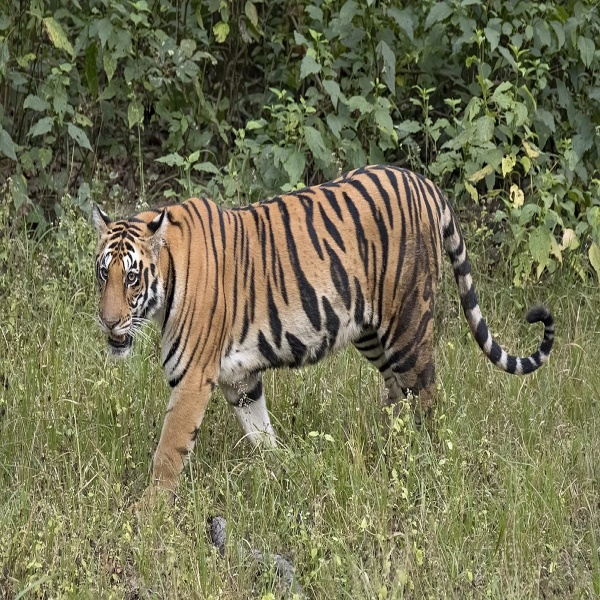Tiger: (90, 163, 557, 504)
